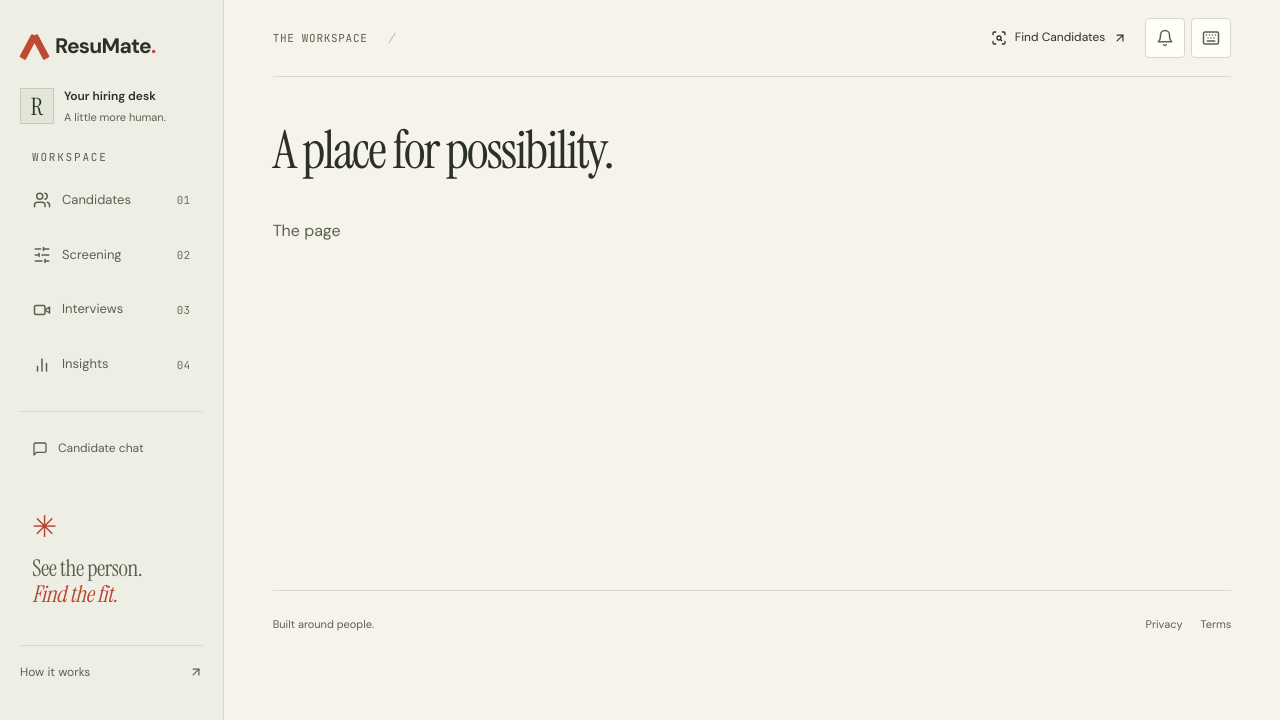
Scenario: the frame inside ProductLayer › opens the keyboard shortcuts from its top bar
Click the button named "Keyboard shortcuts" at (1211, 38), box [1191,18,1231,58]
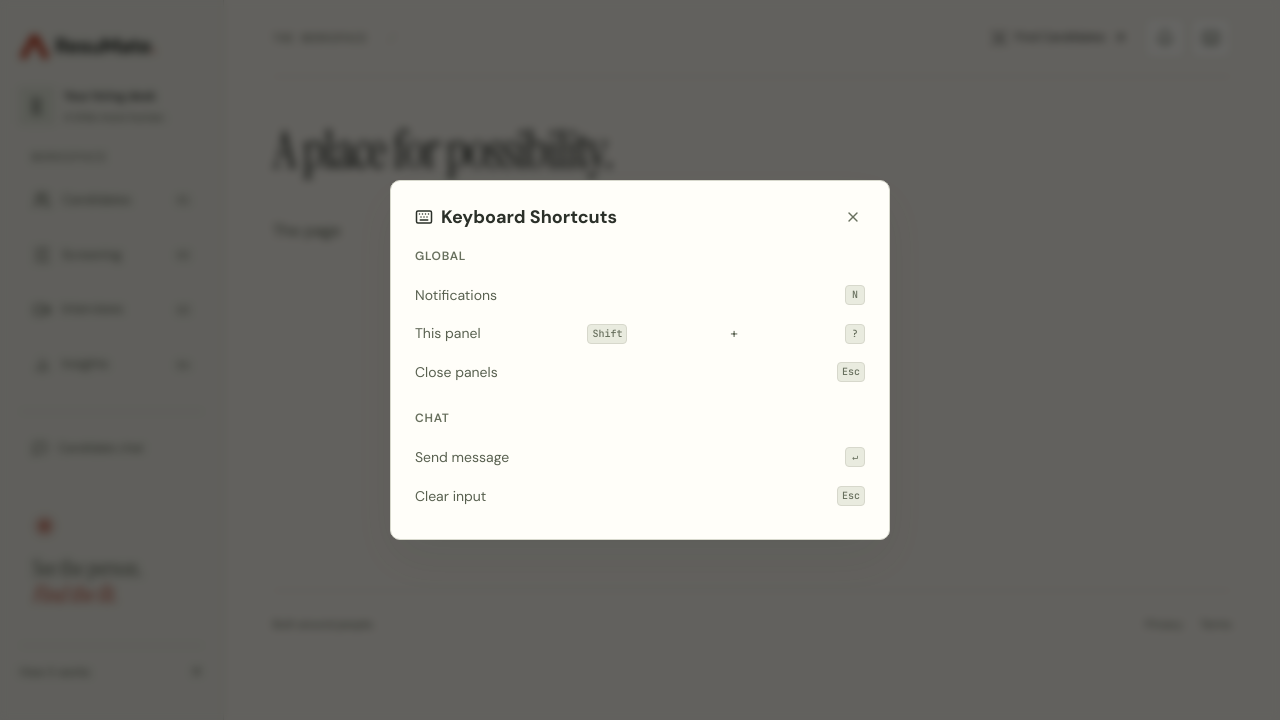
Expected: the heading "Keyboard Shortcuts" is shown, [415,206,617,228]
